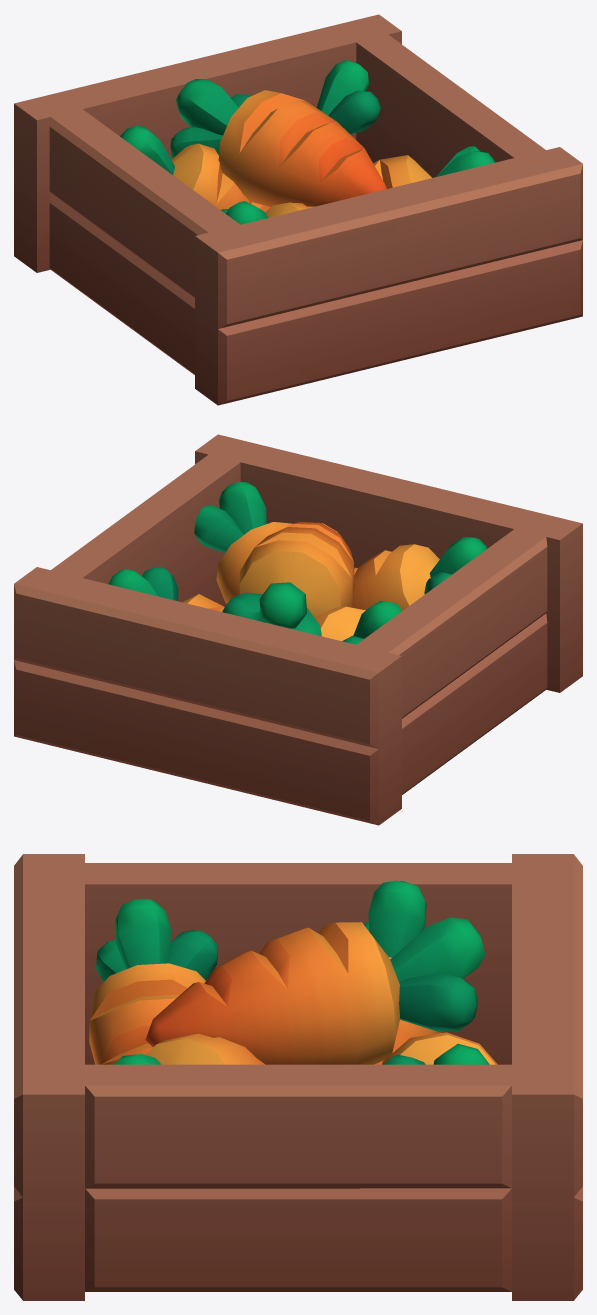
File: supply_carrots.glb
The picture shows the model from 3 angles, top to bottom: view 1: azimuth 30°, elevation 25°; view 2: azimuth 150°, elevation 25°; view 3: azimuth 270°, elevation 25°; orthographic projection. The views are drawn at different scales.
Visible parts, largest first — view 1: crate_carrots; view 2: crate_carrots; view 3: crate_carrots.
Boxes of the visible parts, left/top/right/bottom form: crate_carrots: left=14, top=14, right=582, bottom=405; crate_carrots: left=14, top=434, right=582, bottom=825; crate_carrots: left=14, top=854, right=582, bottom=1300.
Bounding box in the file's own units: 2 × 0.9432 × 2.
Materials: 1 (1 with a texture image).
